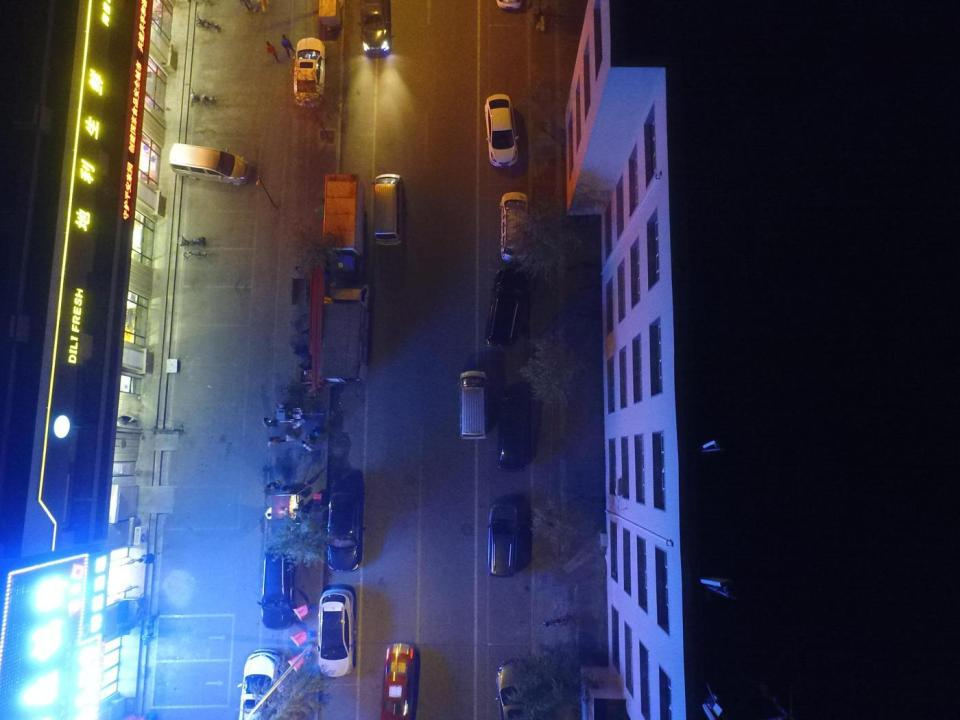car: (326, 481, 363, 572), (317, 589, 355, 677), (238, 649, 281, 720), (380, 644, 415, 720), (484, 93, 519, 166), (497, 395, 529, 472), (495, 659, 533, 720), (294, 37, 326, 107), (357, 0, 389, 54)
truck: (319, 283, 370, 384), (321, 173, 363, 278)
van: (169, 142, 249, 186), (485, 267, 527, 349), (258, 546, 295, 630), (485, 502, 519, 576), (456, 370, 490, 439), (372, 173, 403, 244), (500, 191, 528, 261)
